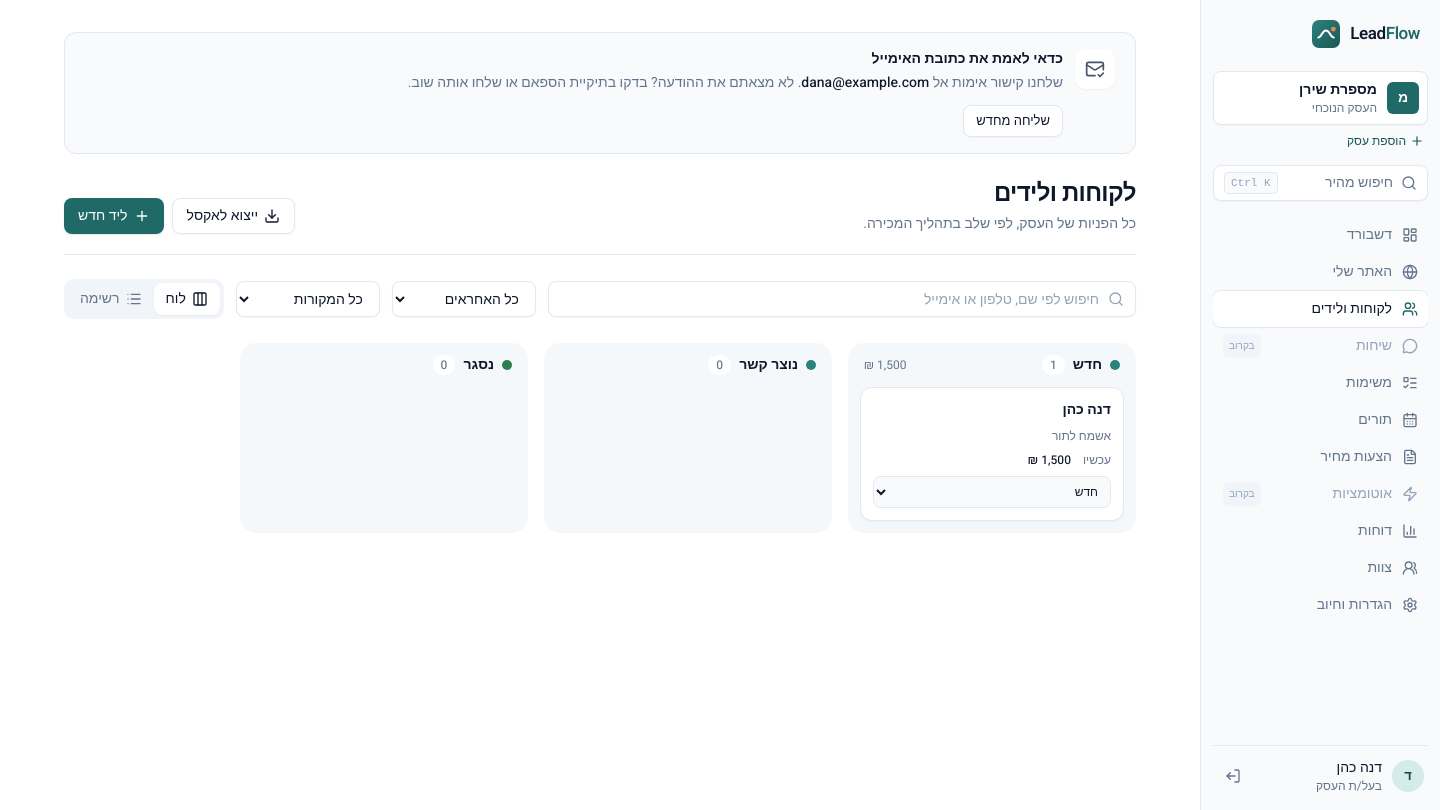
Test: pipeline board › rolls the move back and explains when the server refuses
Select "נוצר קשר" in the dropdown named "העברת דנה כהן לשלב" at (992, 492), box [873,476,1111,508]
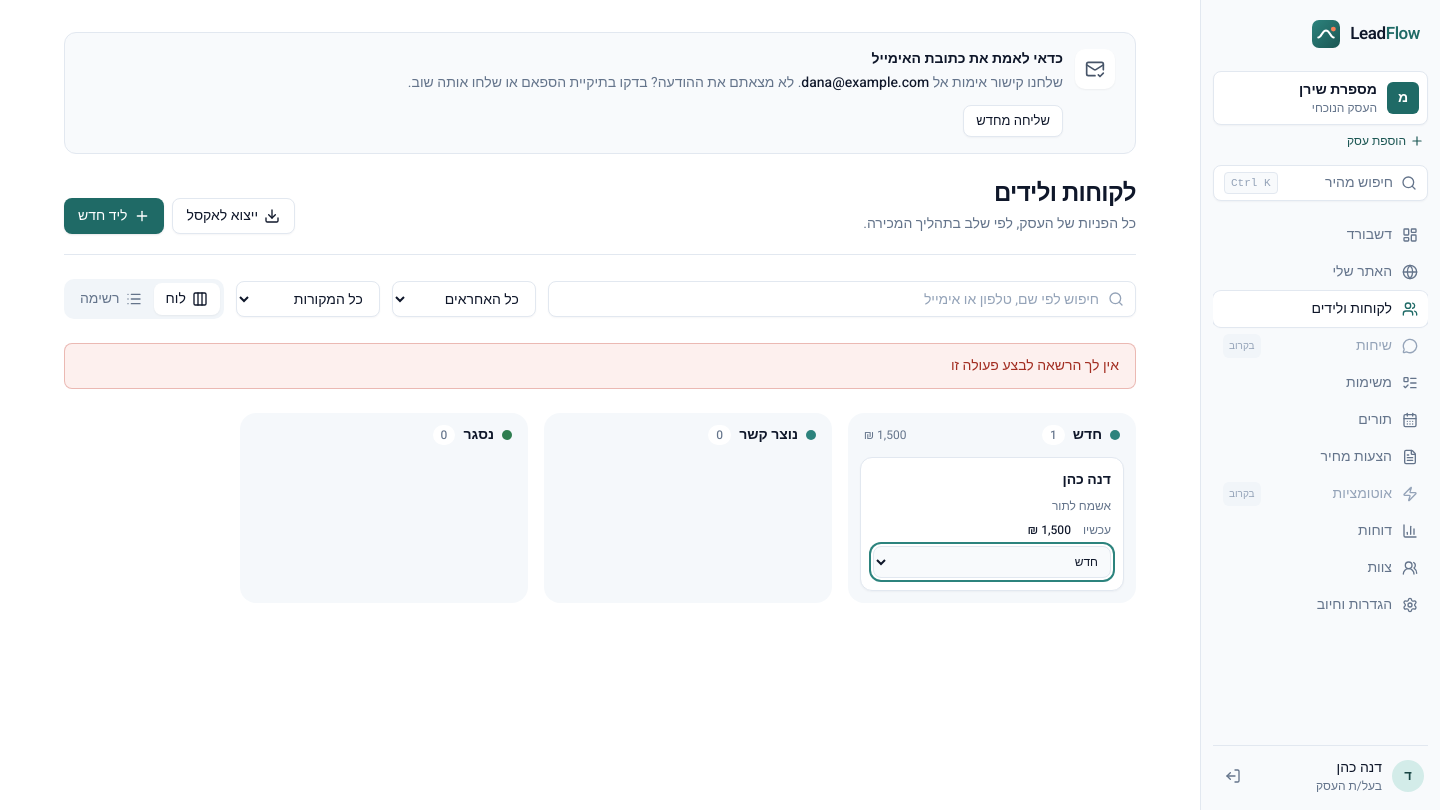
Expected: the 1st link "דנה כהן" is shown, [1062,469,1111,490]
Now the text "אין לך הרשאה לבצע פעולה זו" is shown, box [951,355,1119,376]
